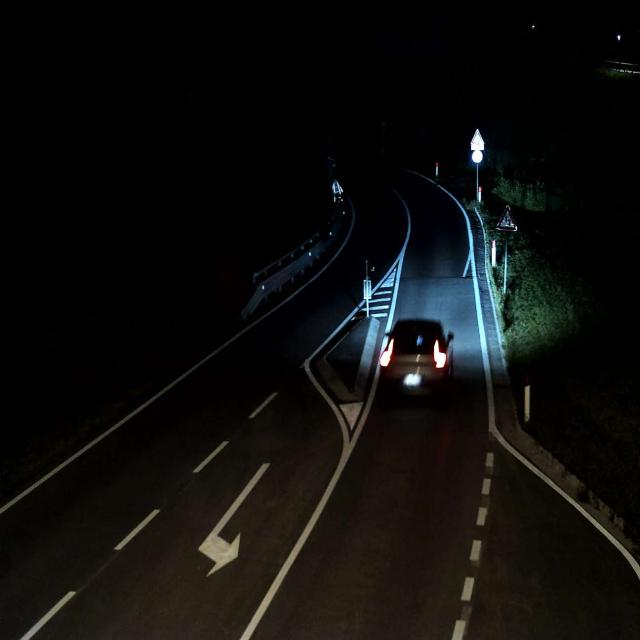car: (378, 317, 454, 398)
